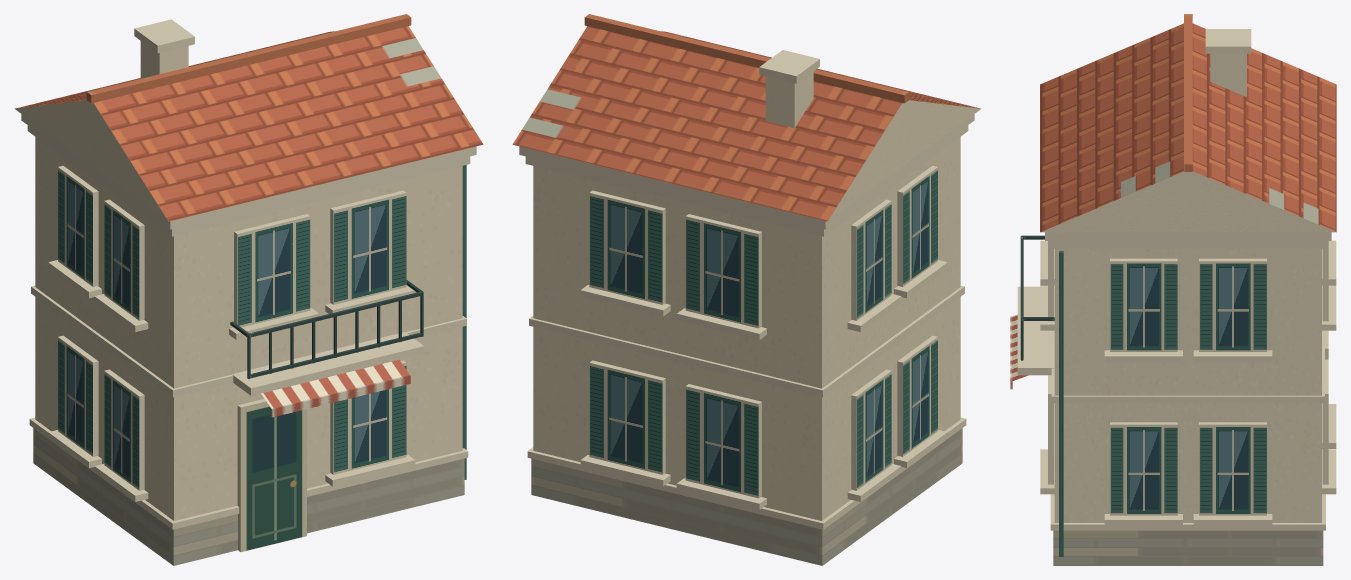
The model's file is SM_QD_B_LaneHouse.fbx.
3 renders of one model, left to right at view 1: azimuth 30°, elevation 25°; view 2: azimuth 150°, elevation 25°; view 3: azimuth 270°, elevation 25°, orthographic. The views are drawn at different scales.
Parts seen in each view (by area): view 1: SM_QD_B_LaneHouse; view 2: SM_QD_B_LaneHouse; view 3: SM_QD_B_LaneHouse.
Part boxes in pixels (bbox=[...]): SM_QD_B_LaneHouse: bbox=[14, 14, 483, 565]; SM_QD_B_LaneHouse: bbox=[512, 14, 981, 565]; SM_QD_B_LaneHouse: bbox=[1010, 14, 1336, 565].
Size of what is drawn, in the model's own units: 5.32 by 4.89 by 7.1.
1 material, 1 textured.
